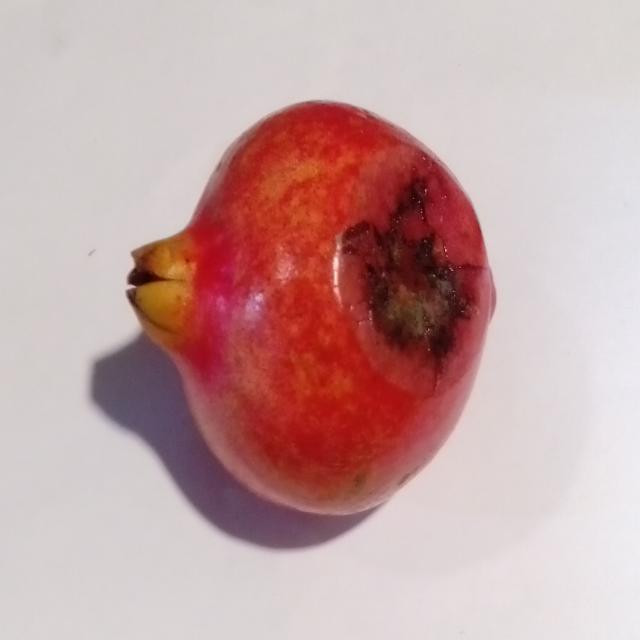Rotten: (124, 90, 498, 521)
